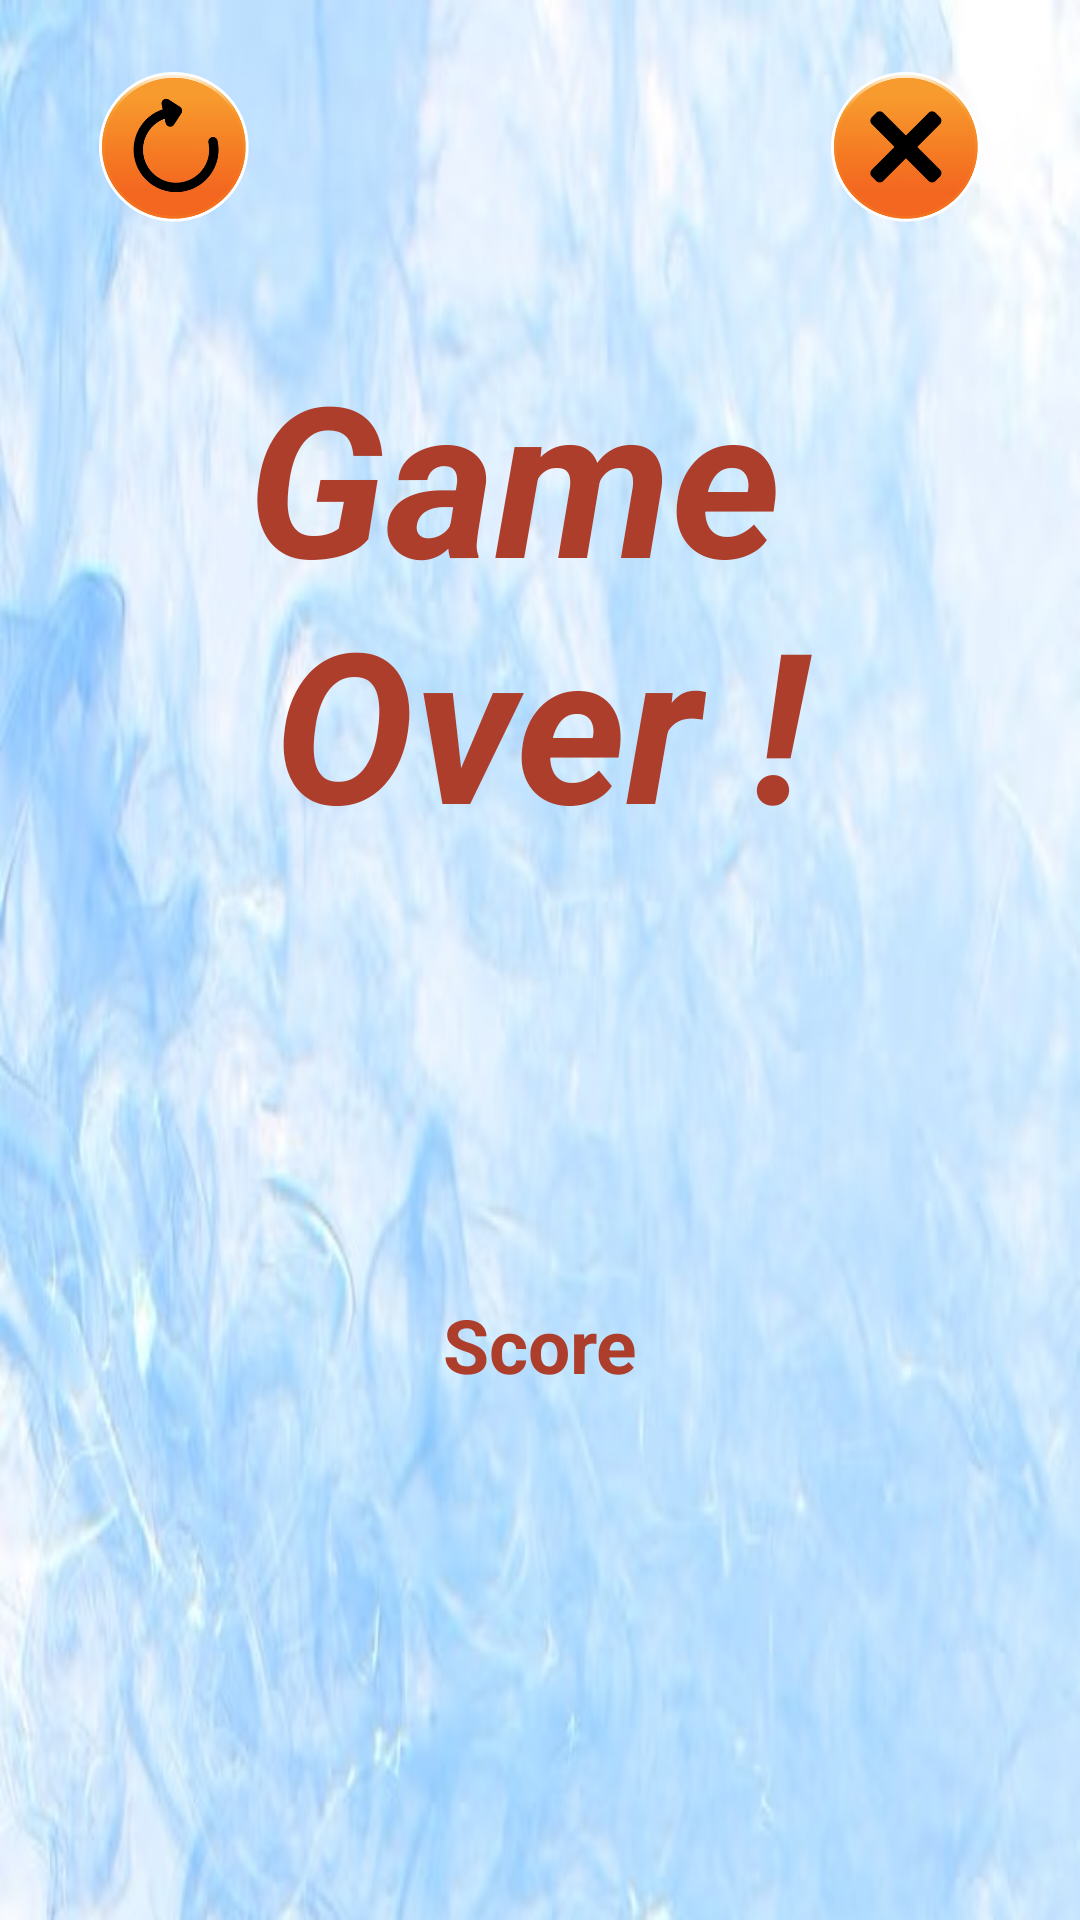

Icons on this 1080px×1920px Android screen, each with the point to tap as point (x, y):
again: point (166, 147)
close: point (906, 147)
